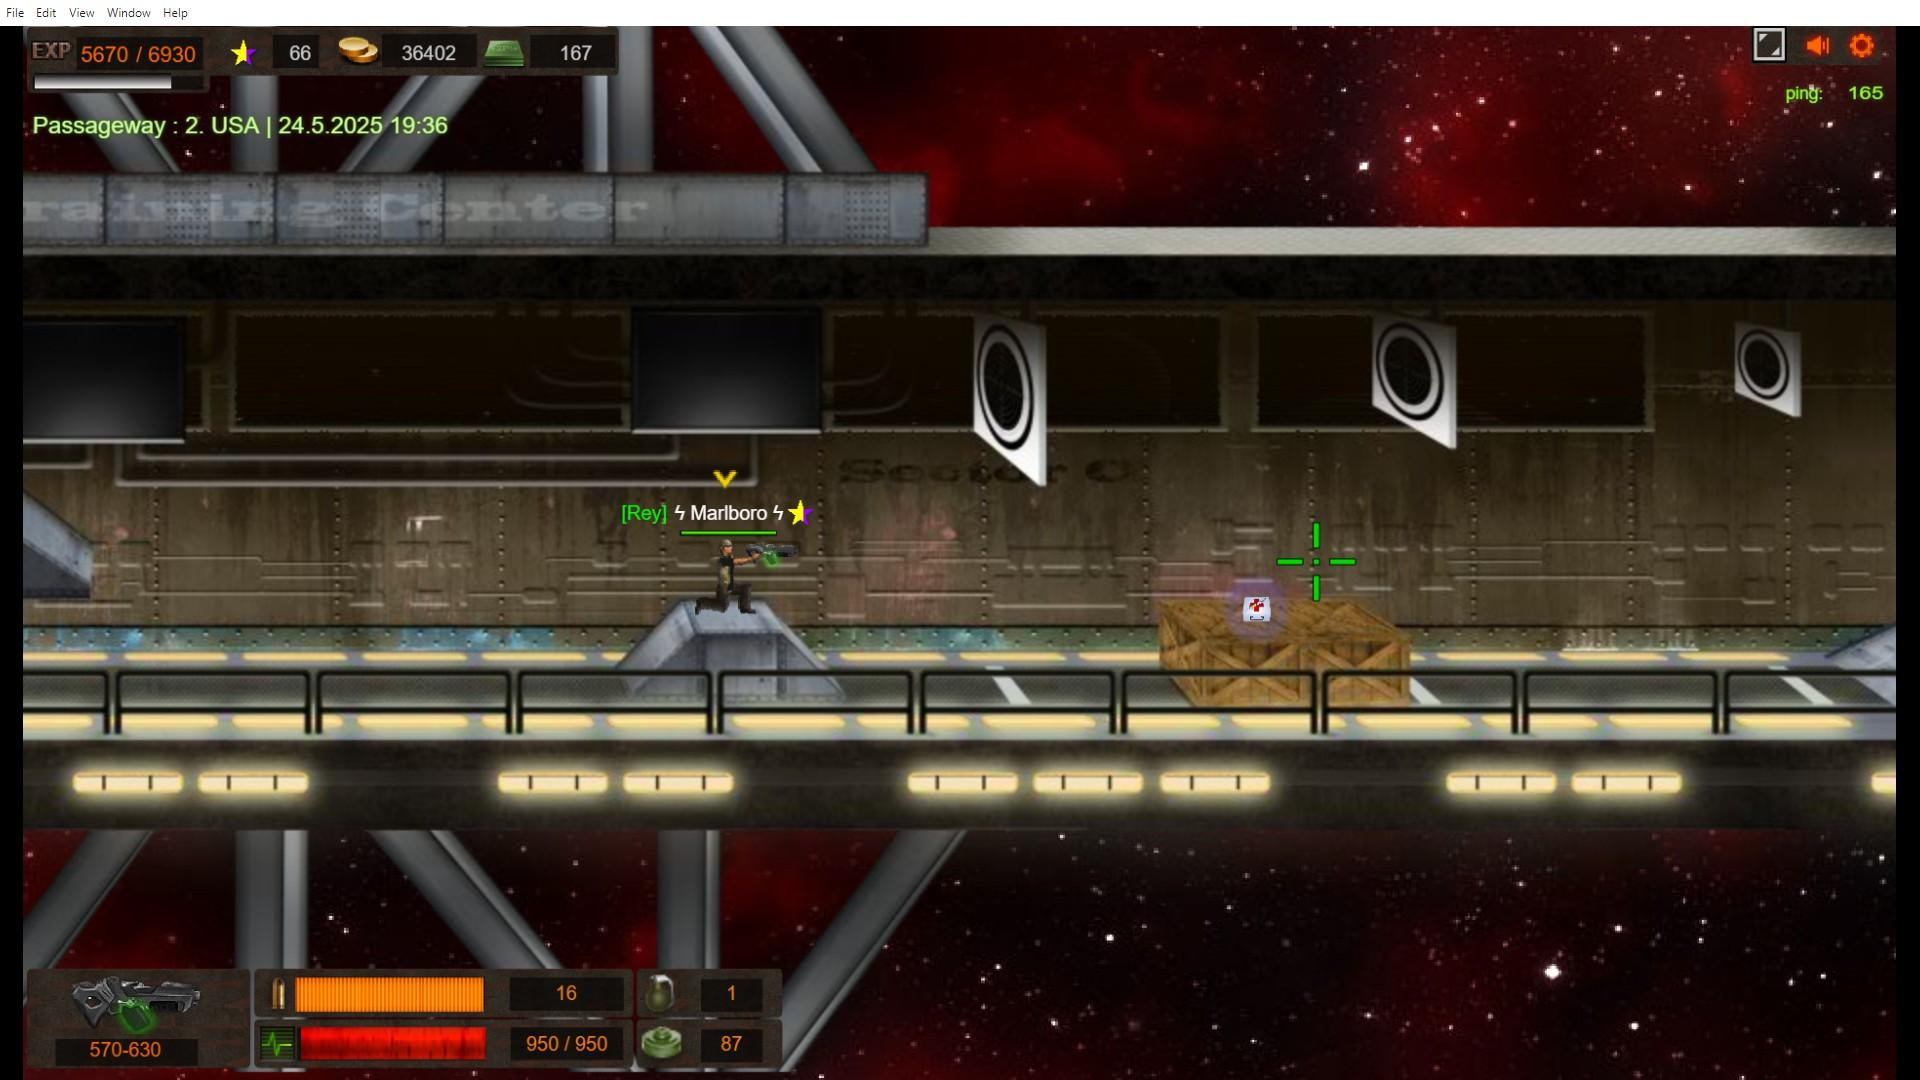enemy: (713, 541, 746, 616)
